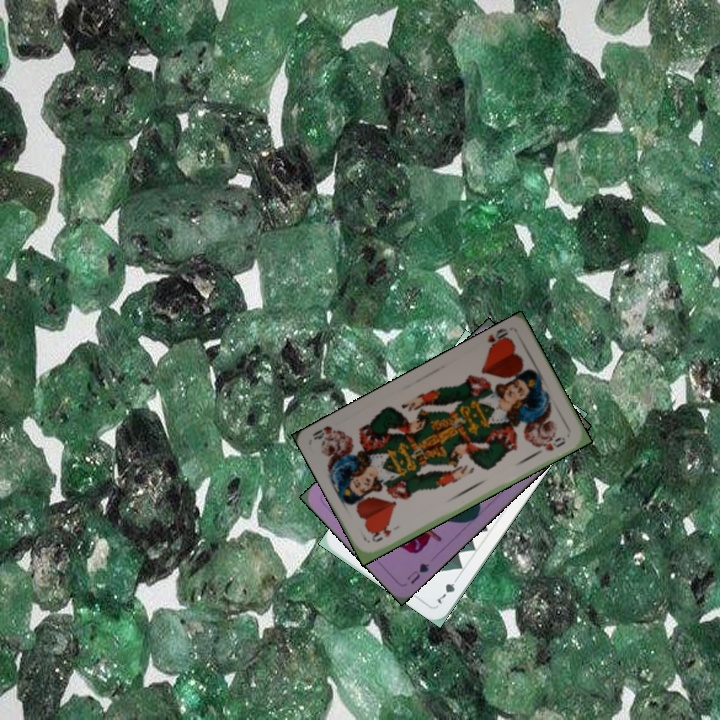G7: (431, 572, 462, 607)
GU: (403, 559, 432, 587)
HO: (482, 324, 514, 355), (368, 525, 394, 545)
